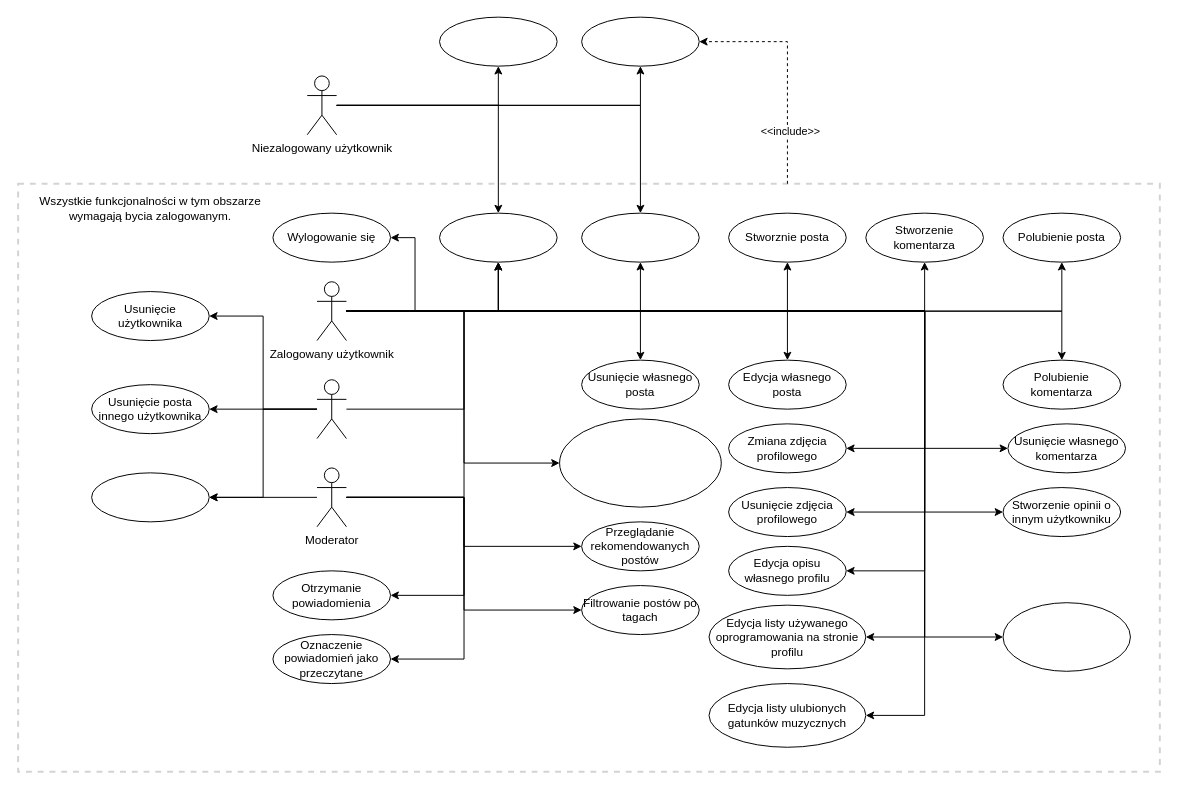
Image size: 1177x790. Some labels were removed from this diagram. The box of each missing label's shape, as (x1, y1, x2, y2) in pixels:
Administrator: (316, 379, 346, 439)
Przeglądanie komentarzy: (581, 212, 699, 262)
Przeglądanie postów: (439, 212, 557, 262)
Usunięcie komentarza innego użytkownika: (91, 472, 209, 522)
Wysłanie wiadomości do innego użytkownika za pośrednictwem czatu: (559, 418, 721, 507)
Wyświetlenie postów wybranego użytkownika: (1002, 602, 1130, 671)
Zalogowanie się: (581, 16, 699, 66)
Założenie konta: (439, 16, 557, 66)
